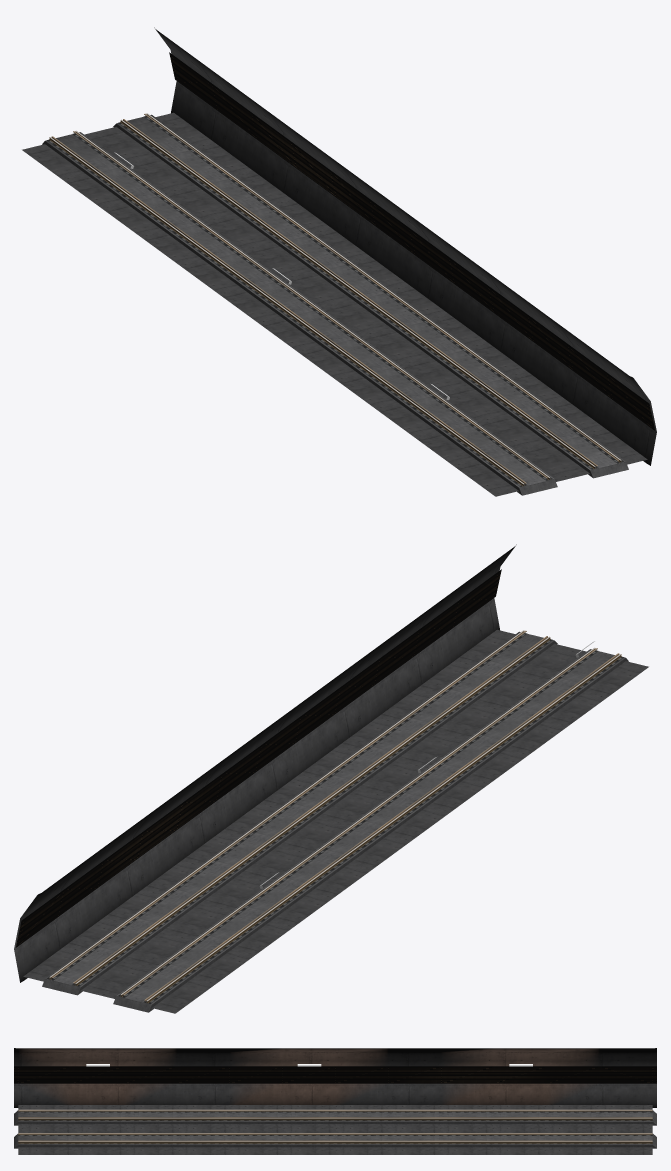
Rendered from KQ_TONNNEL_150.glb.
3 views of the same model, one above another, from view 1: azimuth 30°, elevation 25°; view 2: azimuth 150°, elevation 25°; view 3: azimuth 270°, elevation 25° (orthographic). The views are drawn at different scales.
Visible parts, largest first — view 1: R3, Mesh1, R000_RG_R3, R000_RG_L3; view 2: R3, Mesh1, R000_RG_R3, R000_RG_L3; view 3: R3, Mesh1, R000_RG_L3, R000_RG_R3.
Part boxes in pixels (bbox=[...]): R3: bbox=[22, 27, 656, 496]; Mesh1: bbox=[169, 52, 655, 430]; R000_RG_R3: bbox=[51, 119, 597, 484]; R000_RG_L3: bbox=[73, 113, 618, 478]; R3: bbox=[14, 544, 648, 1013]; Mesh1: bbox=[15, 569, 501, 947]; R000_RG_R3: bbox=[73, 636, 619, 1001]; R000_RG_L3: bbox=[51, 630, 597, 996]; R3: bbox=[14, 1048, 656, 1154]; Mesh1: bbox=[14, 1066, 656, 1083]; R000_RG_L3: bbox=[18, 1117, 652, 1141]; R000_RG_R3: bbox=[18, 1110, 652, 1134].
Bounding box in the file's own units: 29.72 × 20.51 × 152.
13 materials, 12 textured.
